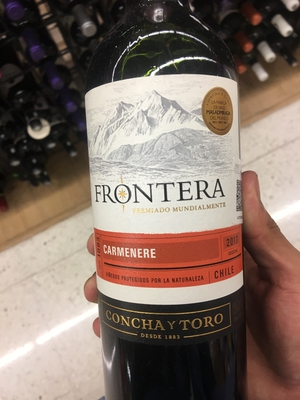frontera carmenere: (62, 31, 281, 381)
